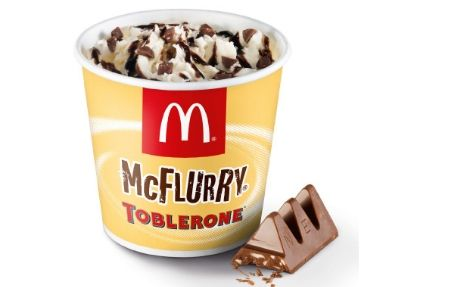mcdonalds: (155, 99, 218, 149)
